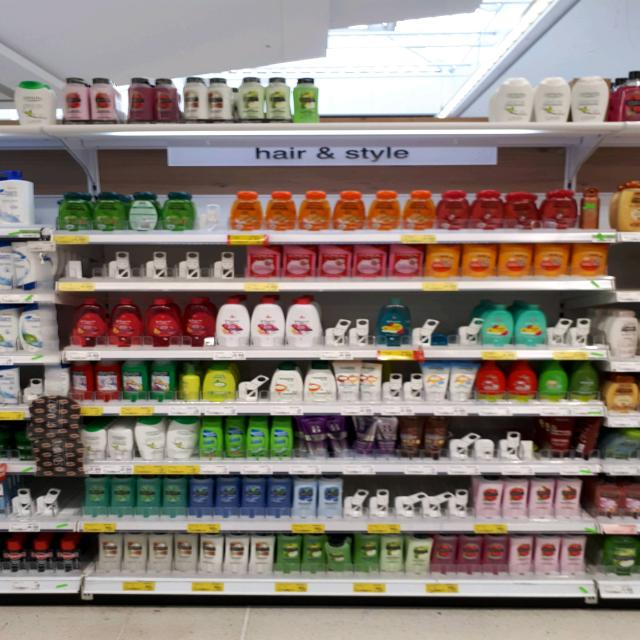empty: (314, 71, 497, 124), (60, 243, 253, 284), (344, 478, 473, 516), (448, 412, 540, 461), (412, 294, 485, 355), (8, 475, 83, 525), (323, 292, 376, 352), (543, 293, 599, 346), (30, 158, 56, 234), (380, 363, 423, 403), (198, 181, 228, 233), (237, 360, 275, 401), (616, 241, 640, 301), (25, 366, 47, 414)
